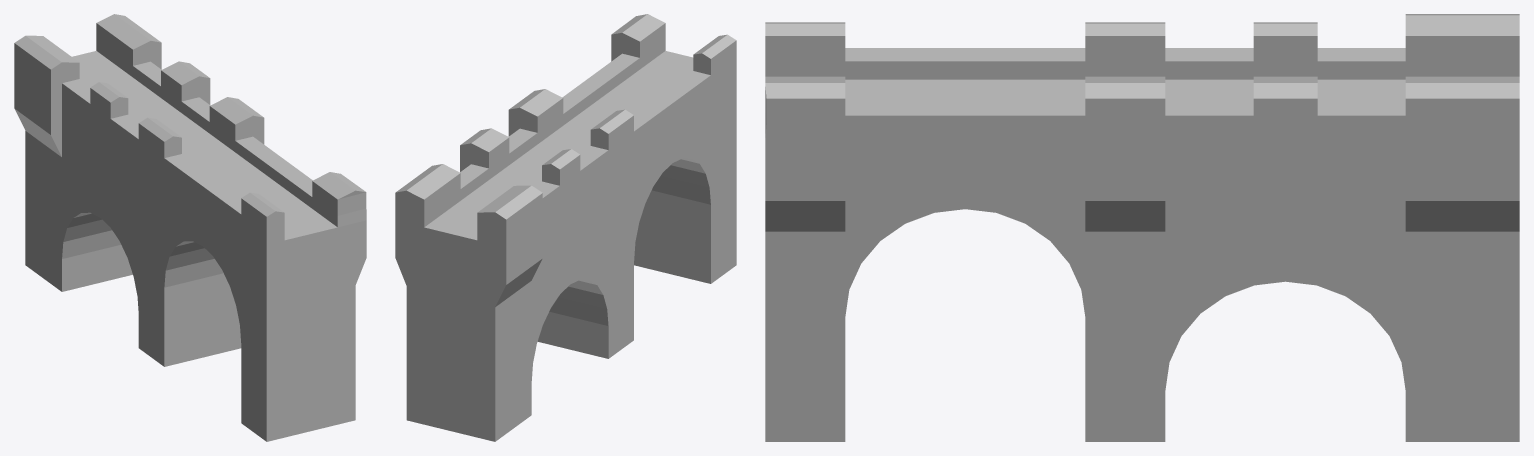
Rendered from StoneStraightBridgeSinglepieceMedium1.fbx.
3 views of the same model, side by side, from view 1: azimuth 30°, elevation 25°; view 2: azimuth 150°, elevation 25°; view 3: azimuth 270°, elevation 25° (orthographic). The views are drawn at different scales.
Parts seen in each view (by area): view 1: StoneStraightBridgeSinglepieceMedium1; view 2: StoneStraightBridgeSinglepieceMedium1; view 3: StoneStraightBridgeSinglepieceMedium1.
Part boxes in pixels (box(x1,y1,x2,y2)): StoneStraightBridgeSinglepieceMedium1: box(14, 14, 366, 441); StoneStraightBridgeSinglepieceMedium1: box(395, 14, 736, 441); StoneStraightBridgeSinglepieceMedium1: box(765, 14, 1519, 441).
Bounding box in the file's own units: 502 × 990 × 1885.
Materials: 1 (1 with a texture image).
